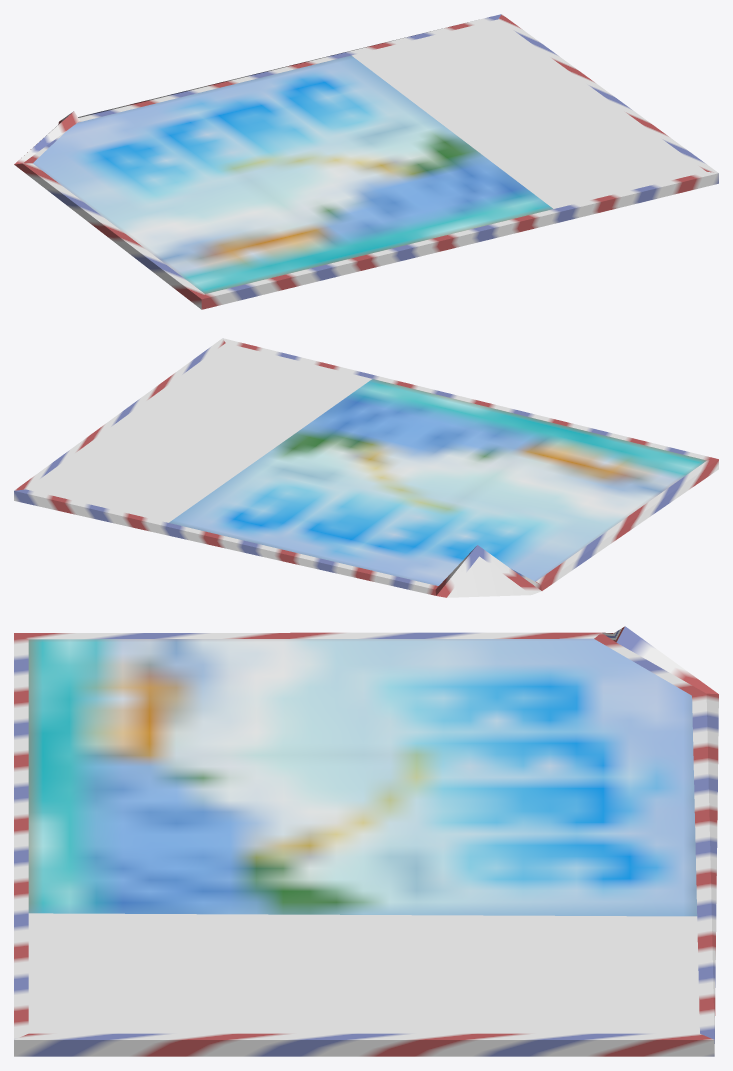
The model's file is Asset_PostCard_01.fbx.
The picture shows the model from 3 angles, top to bottom: view 1: azimuth 30°, elevation 25°; view 2: azimuth 150°, elevation 25°; view 3: azimuth 270°, elevation 25°; orthographic projection. The views are drawn at different scales.
Parts seen in each view (by area): view 1: Asset_PostCard_01; view 2: Asset_PostCard_01; view 3: Asset_PostCard_01.
Boxes of the visible parts, x1,y1,x2,y2 form: Asset_PostCard_01: [14, 14, 718, 309]; Asset_PostCard_01: [14, 338, 718, 597]; Asset_PostCard_01: [14, 626, 718, 1056].
Size of the model in its own units: 19.88 by 1.65 by 14.51.
